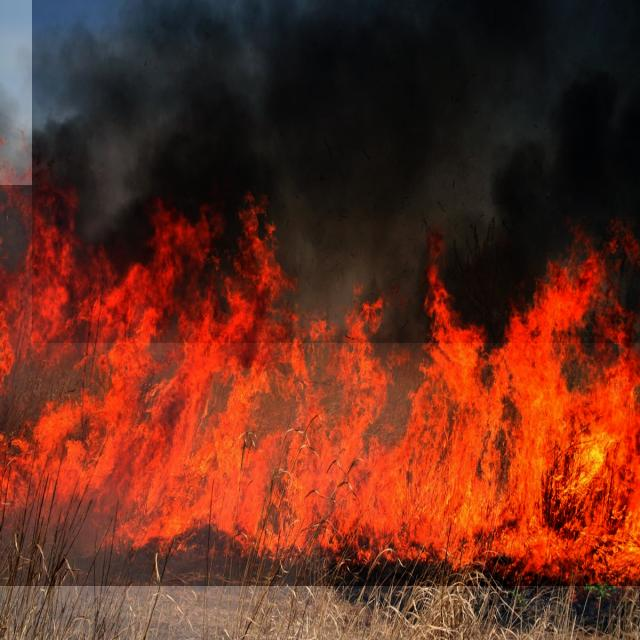Fire: (0, 185, 640, 586)
Smoke: (32, 0, 640, 343)
